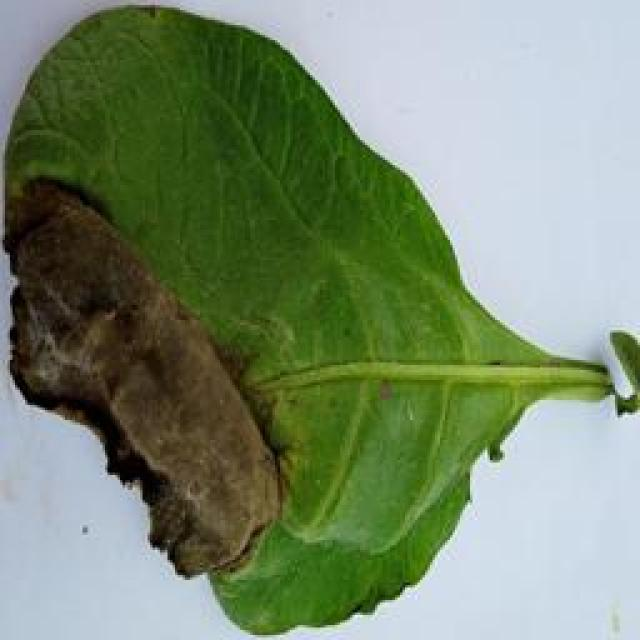Potato_Late_Blight: (2, 4, 628, 632)
